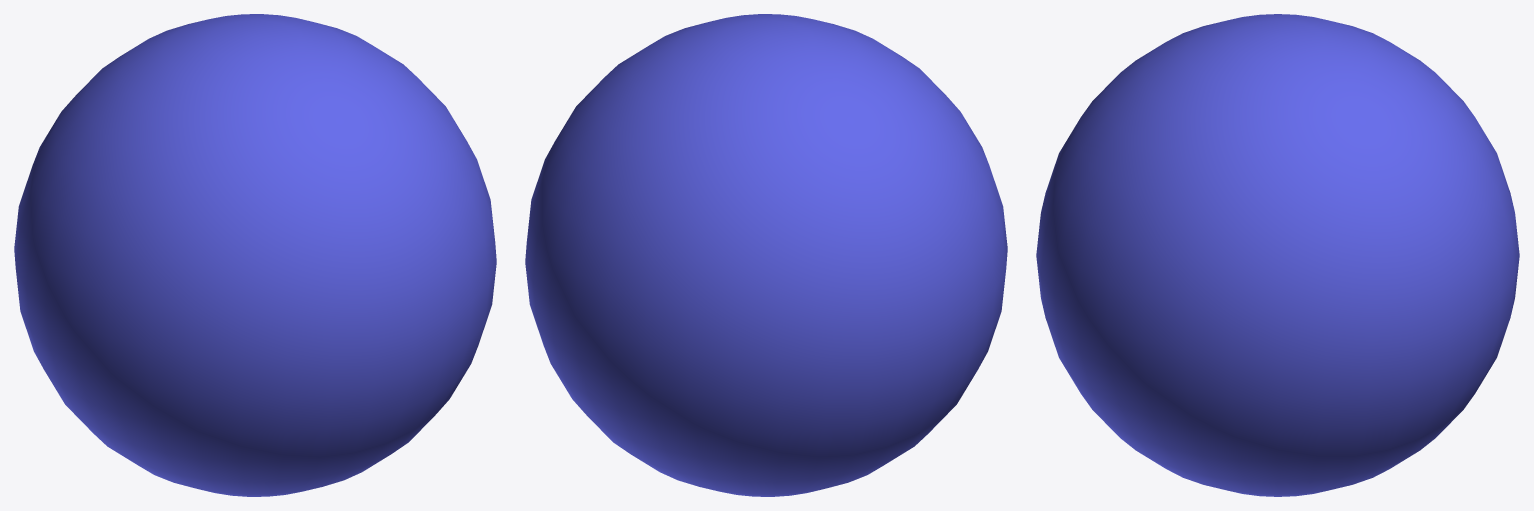
The model's file is newscene.glb.
3 renders of one model, left to right at view 1: azimuth 30°, elevation 25°; view 2: azimuth 150°, elevation 25°; view 3: azimuth 270°, elevation 25°, orthographic.
Visible parts, largest first — view 1: Sphere; view 2: Sphere; view 3: Sphere.
Part boxes in pixels (x1,y1,x2,y2): Sphere: (14,14,496,496); Sphere: (525,14,1007,496); Sphere: (1036,14,1519,496).
Bounding box in the file's own units: 46.7 × 46.7 × 46.7.
